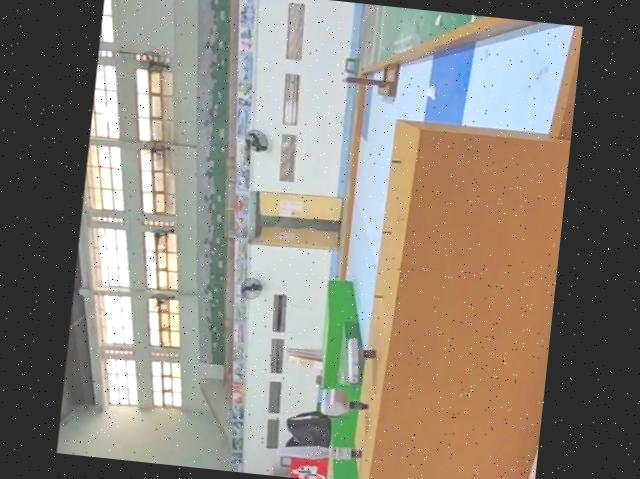Fist: (318, 384, 372, 421)
Hand: (342, 333, 380, 383)
Sph: (276, 439, 361, 465)
